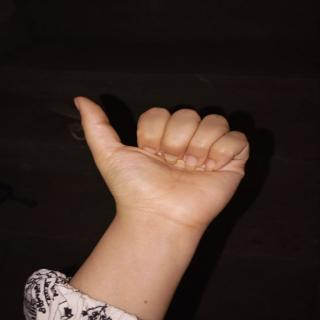DAD: (63, 83, 263, 237)
